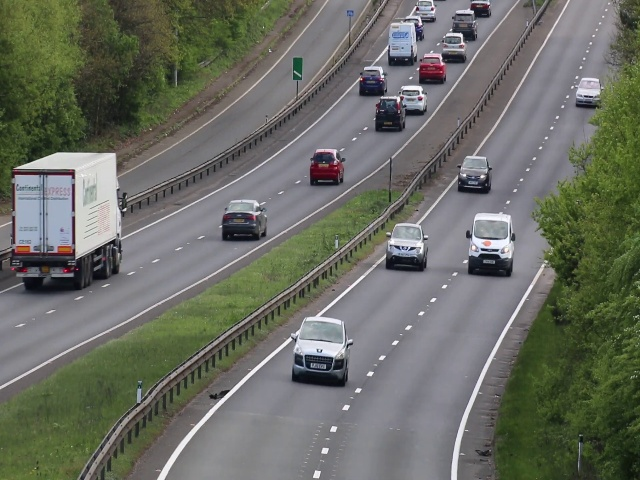car: (15, 172, 129, 291), (290, 313, 350, 386), (465, 208, 517, 278), (384, 221, 430, 272), (223, 198, 266, 239), (386, 20, 419, 64), (456, 152, 493, 190), (312, 148, 347, 184), (376, 97, 406, 130), (356, 66, 387, 93), (576, 76, 601, 108), (403, 82, 427, 115), (419, 55, 446, 82), (441, 35, 466, 58)
